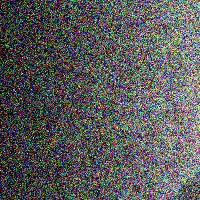pitted_surface: (16, 1, 177, 195), (173, 168, 199, 200)
